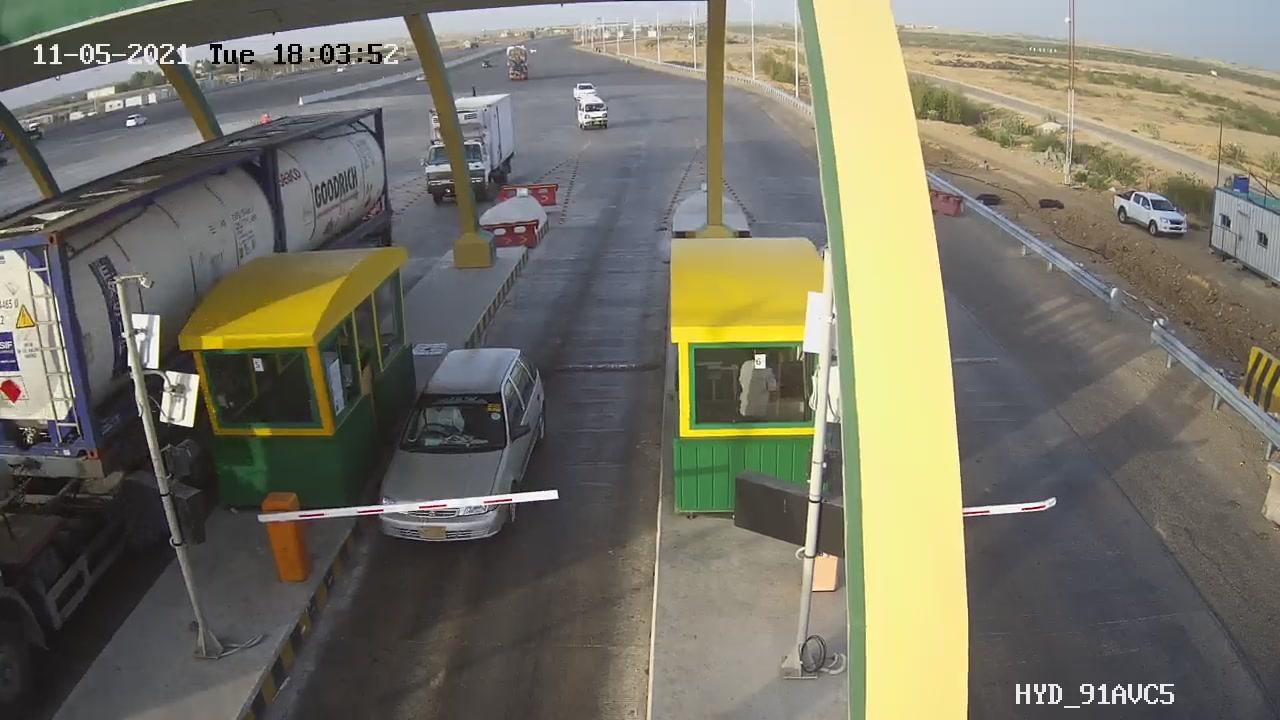F1: (360, 330, 570, 555)
